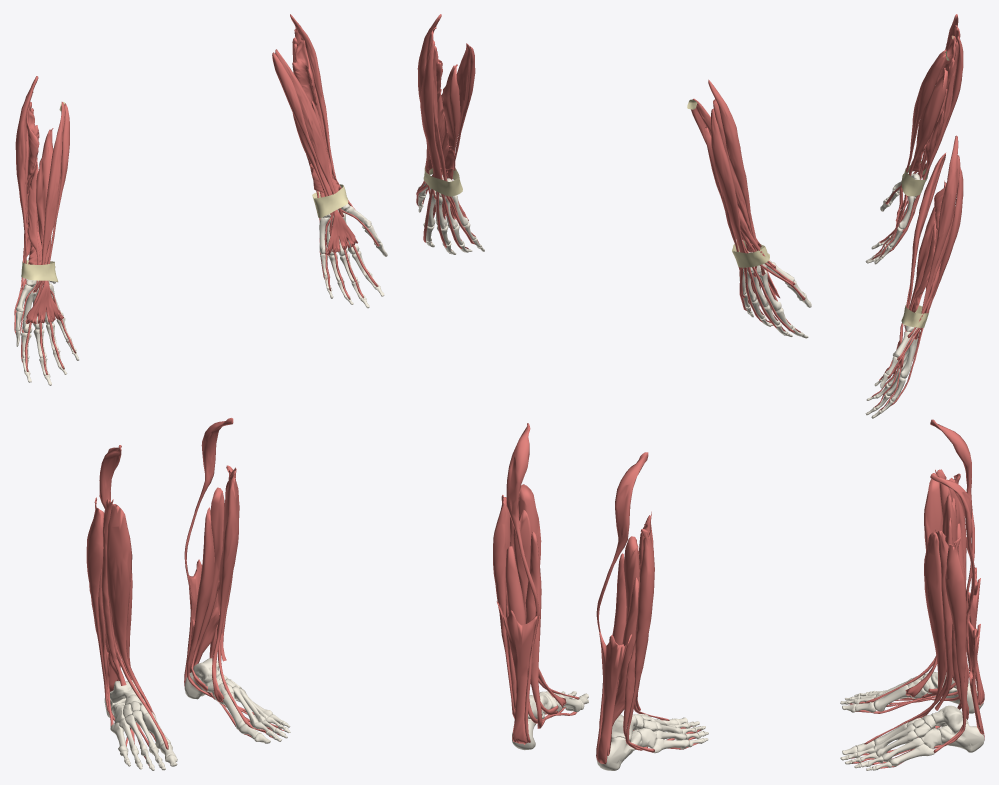
The model's file is hand_foot.glb.
3 views of the same model, side by side, from view 1: azimuth 30°, elevation 25°; view 2: azimuth 150°, elevation 25°; view 3: azimuth 270°, elevation 25° (orthographic). The views are drawn at different scales.
Visible parts, largest first — view 1: Tibialis anterior muscle.r, Tibialis anterior muscle.l, Palmaris longus muscle.l, Flexor digitorum profundus.r, Flexor digitorum longus.l, Fibularis longus muscle.r, Palmaris longus muscle.r, Tibialis posterior muscle.l, Flexor carpi radialis.r, Plantaris muscle.l, Flexor carpi radialis.l, Extensor carpi radialis longus.r (+9 smaller); view 2: Extensor digitorum.r, Fibularis longus muscle.r, Plantaris muscle.l, Calcaneal tendon.l, Extensor digitorum.l, Calcaneal tendon.r, Plantaris muscle.r, Fibularis longus muscle.l, Flexor digitorum longus.l, Extensor carpi radialis longus.r, Flexor digitorum profundus.l, Flexor hallucis longus.r (+8 smaller); view 3: Fibularis longus muscle.l, Tibialis anterior muscle.l, Flexor digitorum profundus.r, Extensor carpi radialis longus.l, Extensor digitorum longus.l, Tibialis anterior muscle.r, Plantaris muscle.r, Plantaris muscle.l, Extensor digitorum.l, Flexor digitorum profundus.l, Palmaris longus muscle.r, Flexor carpi radialis.l (+30 smaller).
Boxes of the visible parts, box(x1,y1,x2,y2) form: Tibialis anterior muscle.r: box(106, 504, 154, 714); Tibialis anterior muscle.l: box(212, 475, 238, 702); Palmaris longus muscle.l: box(272, 52, 357, 255); Flexor digitorum profundus.r: box(24, 128, 76, 374); Flexor digitorum longus.l: box(186, 507, 284, 738); Fibularis longus muscle.r: box(86, 497, 136, 722); Palmaris longus muscle.r: box(25, 103, 69, 324); Tibialis posterior muscle.l: box(191, 487, 224, 699); Flexor carpi radialis.r: box(32, 102, 64, 292); Plantaris muscle.l: box(184, 418, 233, 686); Flexor carpi radialis.l: box(275, 49, 344, 217); Extensor carpi radialis longus.r: box(15, 76, 38, 284); Extensor digitorum.r: box(711, 108, 794, 332); Fibularis longus muscle.r: box(625, 529, 654, 750); Plantaris muscle.l: box(506, 423, 539, 742); Calcaneal tendon.l: box(496, 601, 537, 744); Extensor digitorum.l: box(420, 40, 475, 248); Calcaneal tendon.r: box(597, 631, 631, 764); Plantaris muscle.r: box(596, 452, 648, 758); Fibularis longus muscle.l: box(493, 495, 515, 718); Flexor digitorum longus.l: box(525, 531, 571, 728); Extensor carpi radialis longus.r: box(708, 79, 765, 275); Flexor digitorum profundus.l: box(431, 64, 479, 250); Flexor hallucis longus.r: box(612, 576, 638, 726); Fibularis longus muscle.l: box(933, 537, 966, 748); Tibialis anterior muscle.l: box(912, 532, 946, 720); Flexor digitorum profundus.r: box(871, 68, 947, 259); Extensor carpi radialis longus.l: box(914, 135, 958, 339); Extensor digitorum longus.l: box(935, 528, 953, 710); Tibialis anterior muscle.r: box(905, 479, 942, 697); Plantaris muscle.r: box(930, 419, 980, 704); Plantaris muscle.l: box(930, 473, 974, 671); Extensor digitorum.l: box(888, 167, 963, 405); Flexor digitorum profundus.l: box(871, 180, 946, 410); Palmaris longus muscle.r: box(895, 53, 945, 227); Flexor carpi radialis.l: box(904, 153, 945, 330).
Bounding box in the file's own units: 0.6692 × 1.15 × 0.2291.
